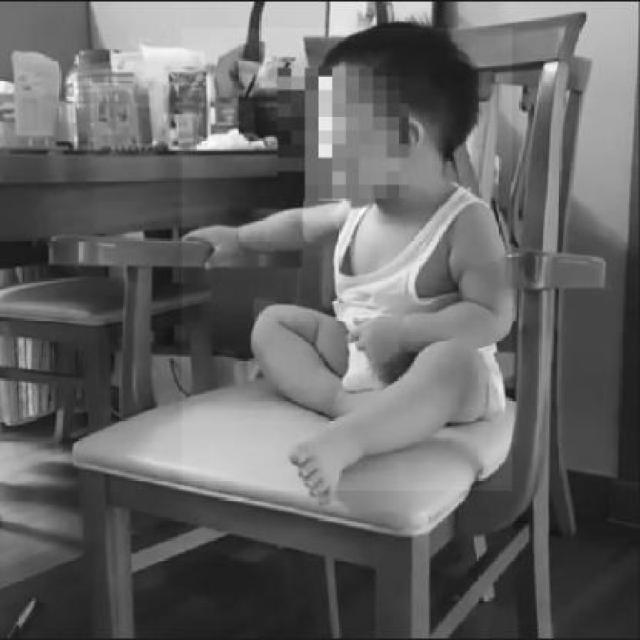child: (181, 28, 512, 491)
